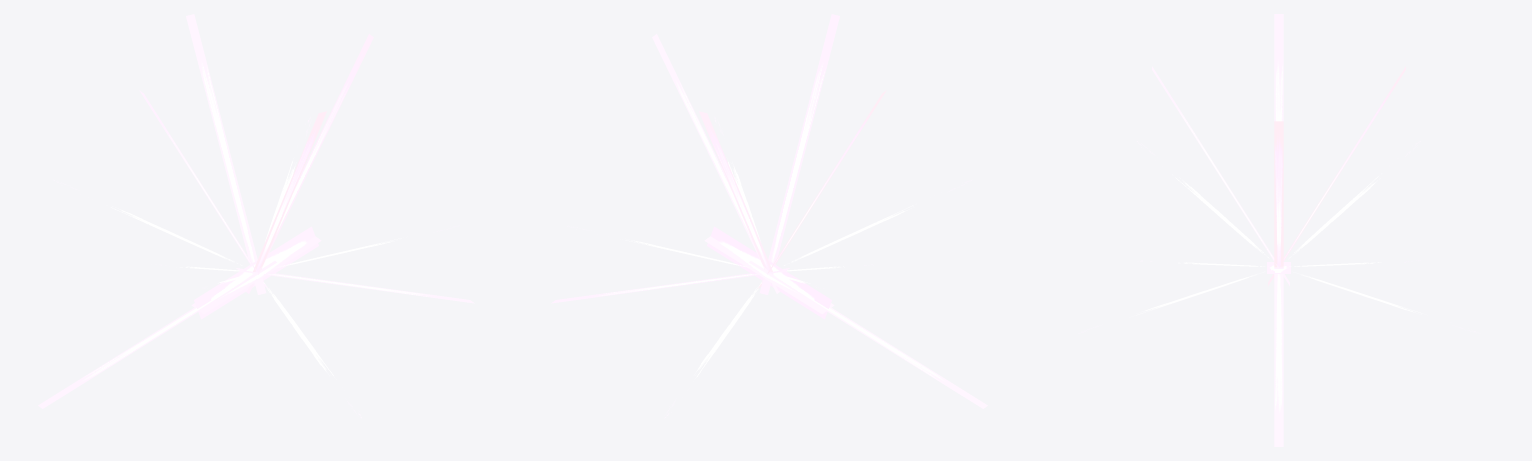
Rendered from sfx_blade_heavy_attack1.glb.
3 renders of one model, left to right at view 1: azimuth 30°, elevation 25°; view 2: azimuth 150°, elevation 25°; view 3: azimuth 270°, elevation 25°, orthographic. The views are drawn at different scales.
Visible parts, largest first — view 1: sfx_blade_heavy_attack1_obj0, sfx_blade_heavy_attack1_obj2, sfx_blade_heavy_attack1_obj12, sfx_blade_heavy_attack1_obj3, sfx_blade_heavy_attack1_obj4, sfx_blade_heavy_attack1_obj10, sfx_blade_heavy_attack1_obj5, sfx_blade_heavy_attack1_obj11; view 2: sfx_blade_heavy_attack1_obj0, sfx_blade_heavy_attack1_obj4, sfx_blade_heavy_attack1_obj12, sfx_blade_heavy_attack1_obj3, sfx_blade_heavy_attack1_obj2, sfx_blade_heavy_attack1_obj10, sfx_blade_heavy_attack1_obj5, sfx_blade_heavy_attack1_obj13; view 3: sfx_blade_heavy_attack1_obj10, sfx_blade_heavy_attack1_obj3, sfx_blade_heavy_attack1_obj5, sfx_blade_heavy_attack1_obj2, sfx_blade_heavy_attack1_obj4.
Part boxes in pixels (x1,y1,x2,y2): sfx_blade_heavy_attack1_obj0: (191,226,321,319); sfx_blade_heavy_attack1_obj2: (186,14,266,294); sfx_blade_heavy_attack1_obj12: (38,261,276,408); sfx_blade_heavy_attack1_obj3: (246,34,373,293); sfx_blade_heavy_attack1_obj4: (253,111,326,271); sfx_blade_heavy_attack1_obj10: (236,268,474,303); sfx_blade_heavy_attack1_obj5: (139,90,268,288); sfx_blade_heavy_attack1_obj11: (263,282,361,418); sfx_blade_heavy_attack1_obj0: (704,226,834,319); sfx_blade_heavy_attack1_obj4: (759,14,839,294); sfx_blade_heavy_attack1_obj12: (749,261,987,408); sfx_blade_heavy_attack1_obj3: (652,34,779,293); sfx_blade_heavy_attack1_obj2: (699,111,772,271); sfx_blade_heavy_attack1_obj10: (551,268,789,303); sfx_blade_heavy_attack1_obj5: (757,90,886,288); sfx_blade_heavy_attack1_obj13: (664,282,761,418); sfx_blade_heavy_attack1_obj10: (1274,274,1283,446); sfx_blade_heavy_attack1_obj3: (1274,121,1283,267); sfx_blade_heavy_attack1_obj5: (1274,14,1283,121); sfx_blade_heavy_attack1_obj2: (1268,66,1405,285); sfx_blade_heavy_attack1_obj4: (1152,66,1289,285).
Size of the model in its own units: 1.66 by 1.07 by 1.66.
Materials: 3 (3 with a texture image).
